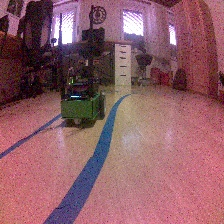rob: (59, 59, 106, 126)
